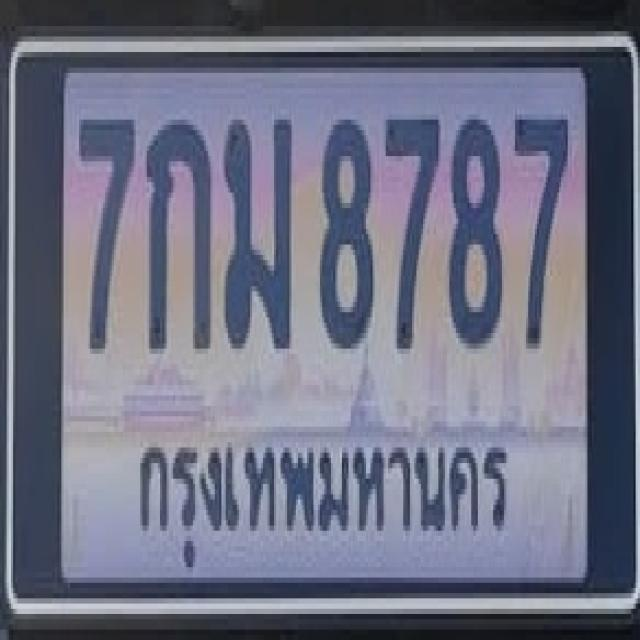license_plate: (4, 36, 640, 614)
